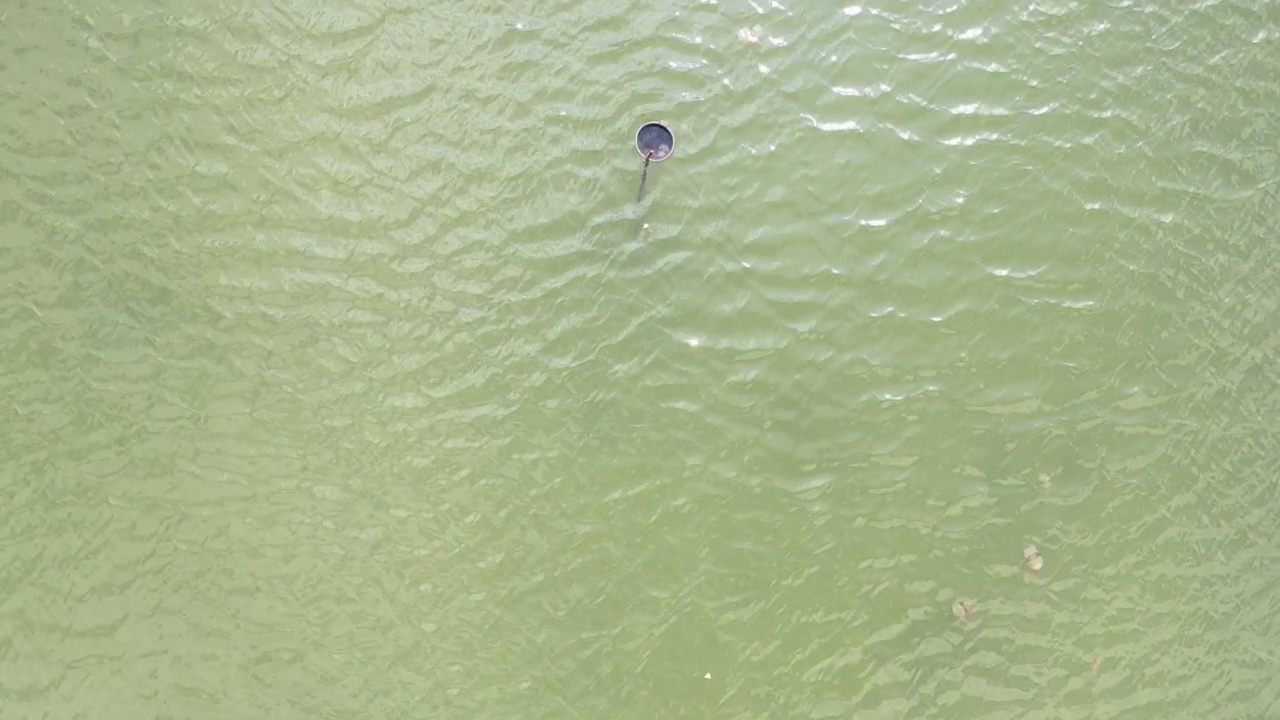meduse: (734, 25, 762, 46), (1023, 546, 1044, 572), (951, 599, 975, 619), (1089, 654, 1105, 671), (1036, 470, 1052, 487)
